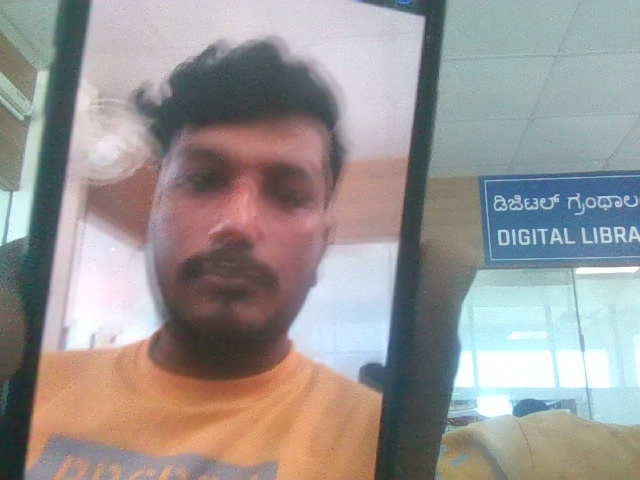fake: (117, 23, 358, 364)
